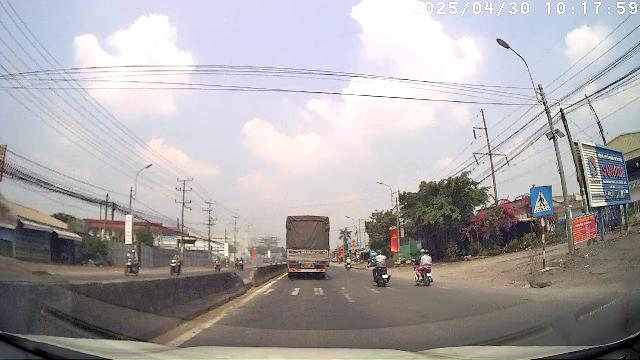423a-duong-nguoi-di-bo-sang-ngang-1: (530, 188, 552, 214)
